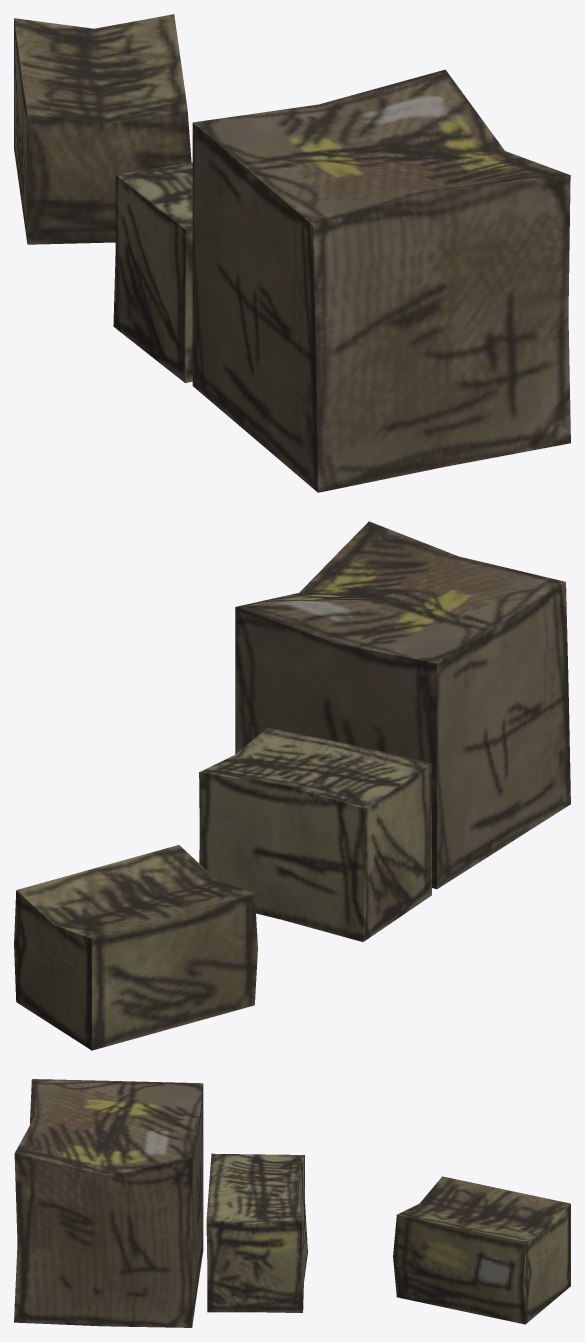
File: boxcardboard3.fbx
3 views of the same model, one above another, from view 1: azimuth 30°, elevation 25°; view 2: azimuth 150°, elevation 25°; view 3: azimuth 270°, elevation 25° (orthographic). The views are drawn at different scales.
Visible parts, largest first — view 1: Boxes.004; view 2: Boxes.004; view 3: Boxes.004.
Part boxes in pixels (x1,y1,x2,y2): Boxes.004: (14, 14, 570, 492); Boxes.004: (14, 521, 570, 1050); Boxes.004: (14, 1079, 570, 1327).
Size of the model in its own units: 37.18 by 37.03 by 109.
